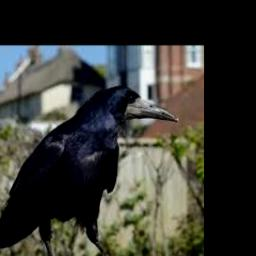Crow: (0, 83, 178, 256)
